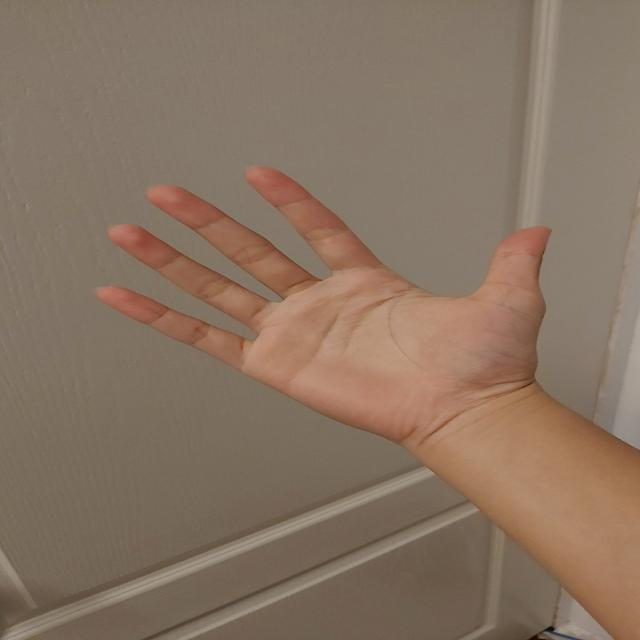no_glove: (66, 153, 557, 445)
